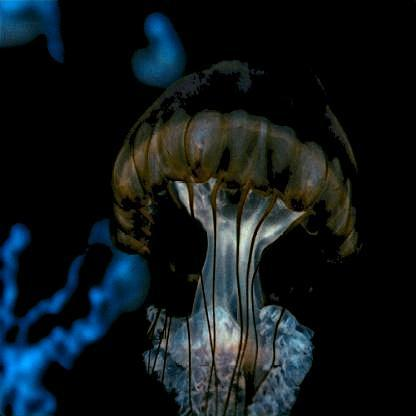Dressed: (109, 34, 367, 409), (6, 212, 158, 406), (1, 5, 85, 89), (132, 15, 187, 85)
